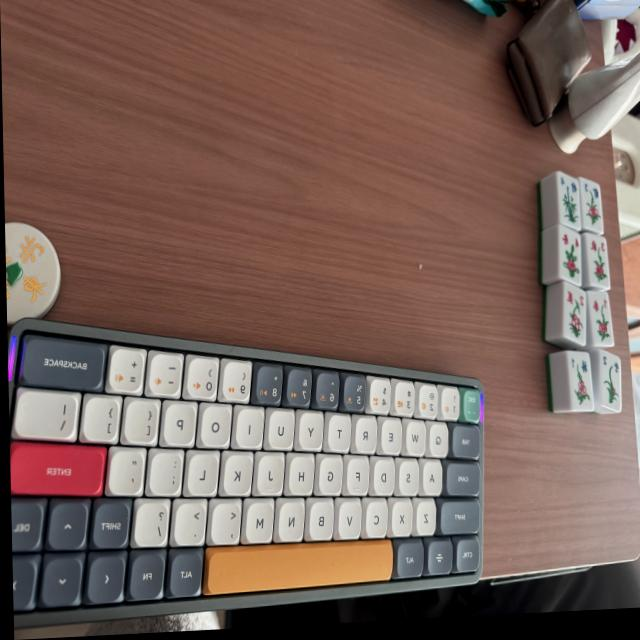f1: (564, 348, 593, 411)
f2: (591, 348, 621, 414)
f3: (578, 178, 605, 237)
f4: (556, 170, 583, 232)
ff1: (585, 291, 614, 350)
ff2: (561, 279, 588, 345)
ff3: (580, 232, 609, 291)
ff4: (557, 225, 585, 291)
